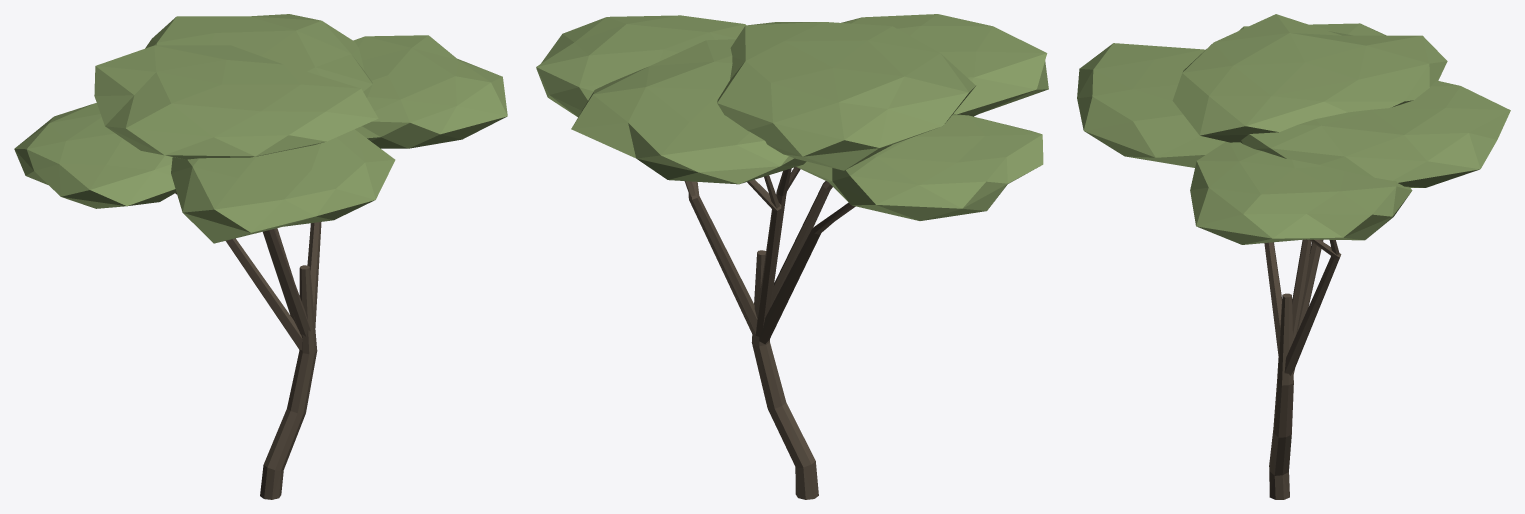
Rendered from acacia.fbx.
3 renders of one model, left to right at view 1: azimuth 30°, elevation 25°; view 2: azimuth 150°, elevation 25°; view 3: azimuth 270°, elevation 25°, orthographic. The views are drawn at different scales.
Visible parts, largest first — view 1: acacia; view 2: acacia; view 3: acacia.
Part boxes in pixels (bbox=[...]): acacia: bbox=[14, 14, 507, 499]; acacia: bbox=[536, 14, 1048, 499]; acacia: bbox=[1077, 14, 1510, 499].
Bounding box in the file's own units: 9 × 8 × 7.56.
